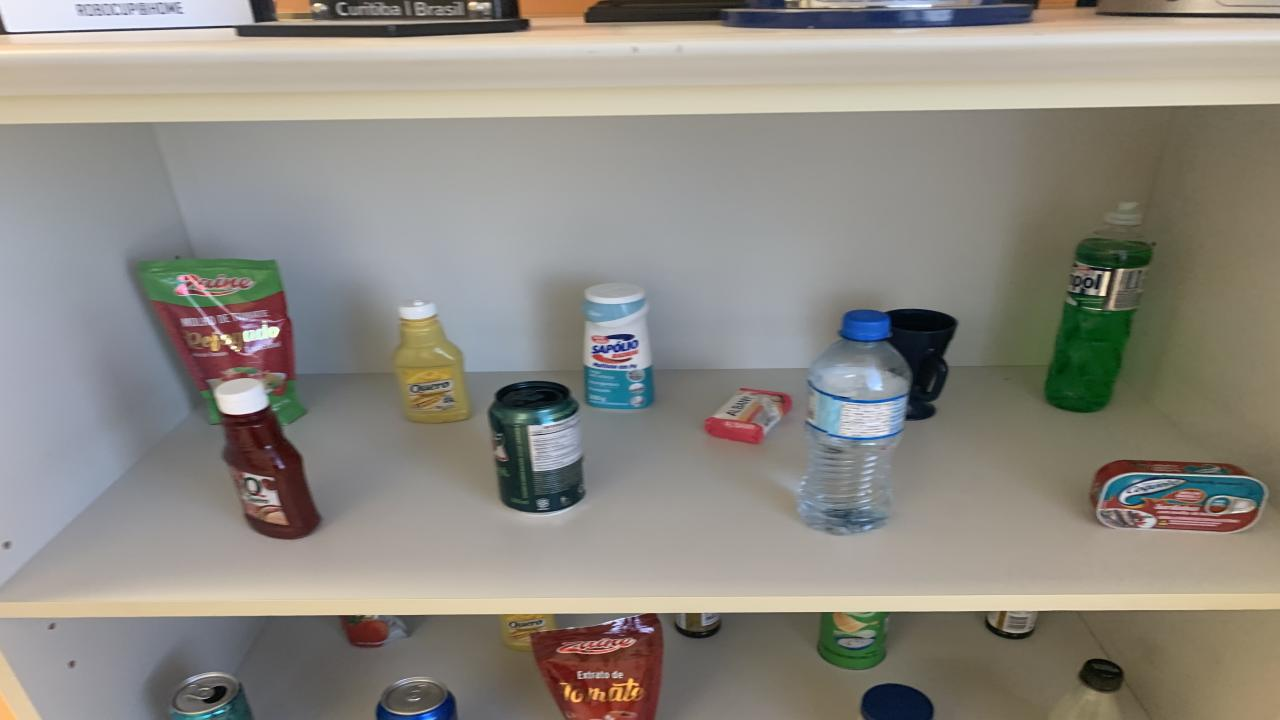Cleaner-Cleanup_Items: (582, 283, 655, 409)
Detergent-Cleanup_Items: (1045, 202, 1152, 412)
English_Sauce-Pantry_Items: (985, 611, 1038, 639), (675, 613, 722, 638)
Guarana_Can-Drinks: (488, 381, 585, 514)
Ketchup-Pantry_Items: (215, 377, 320, 538)
Mayonnaise-Pantry_Items: (860, 684, 932, 720)
Mustard-Pantry_Items: (392, 300, 470, 424), (500, 613, 558, 651)
Pringles-Snacks: (818, 611, 890, 669)
Soap-Cleanup_Items: (705, 388, 792, 442)
Soda-Drinks: (1048, 658, 1125, 720)
Tea-Drinks: (170, 671, 252, 720)
Tomato_Sauce-Pantry_Items: (138, 259, 305, 424), (530, 613, 662, 720), (340, 615, 412, 647)
Tonic-Drinks: (375, 677, 458, 720)
Tuna_Can-Pantry_Items: (1090, 459, 1268, 532)
Water_Bottle-Drinks: (798, 309, 912, 534)
